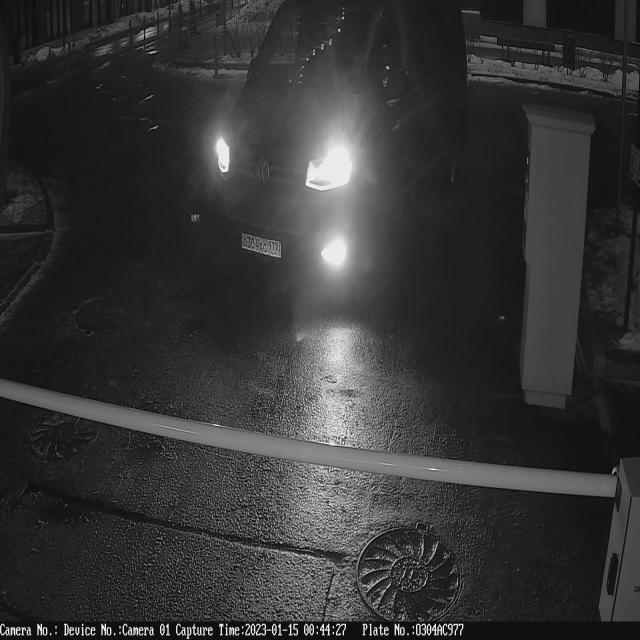car-plate-numbers: (240, 229, 287, 263)
